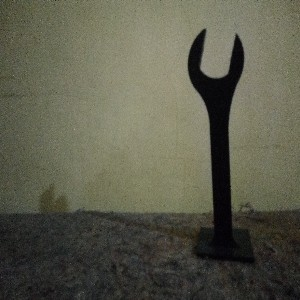spanner: (186, 27, 258, 268)
